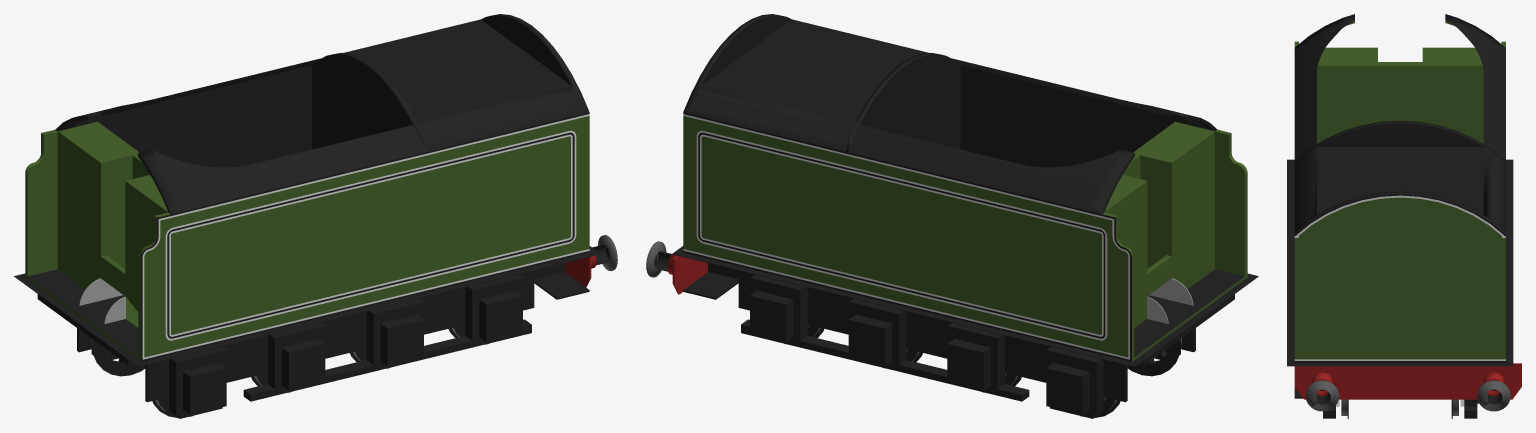
Rendered from a1_peppercorn_tender.obj.
3 renders of one model, left to right at view 1: azimuth 30°, elevation 25°; view 2: azimuth 150°, elevation 25°; view 3: azimuth 270°, elevation 25°, orthographic. The views are drawn at different scales.
Visible parts, largest first — view 1: group_2_ID363.001, group_2.015_ID459.001, group_2.001_ID371.005, group_1.004_ID302.005, group_2.016_ID465.001, group_2.010_ID427.001, group_3.001_ID488.001, group_2.008_ID415.001, group_2.006_ID403.001, group_2.002_ID377.005, group_2.007_ID409.001, group_1.013_ID356.001 (+9 smaller); view 2: group_2_ID363.001, group_2.014_ID453.006, group_2.001_ID371.005, group_1.002_ID290.005, group_2.016_ID465.001, group_2.009_ID421.001, group_3.001_ID488.001, group_2.003_ID385.001, group_2.004_ID391.001, group_2.002_ID377.005, group_2.005_ID397.001, group_1.006_ID314.001 (+9 smaller); view 3: group_2.016_ID465.001, group_2_ID363.001, group_2.001_ID371.005, group_5_ID514.001, group_3.001_ID488.001, group_2.009_ID421.001, group_2.010_ID427.001, group_2.002_ID377.005, group_7.002_ID562.001, group_6.002_ID535.006, group_1.002_ID290.005.
Part boxes in pixels (bbox=[...]): group_2_ID363.001: bbox=[28, 14, 589, 361]; group_2.015_ID459.001: bbox=[171, 136, 570, 334]; group_2.001_ID371.005: bbox=[25, 122, 170, 361]; group_1.004_ID302.005: bbox=[145, 270, 534, 418]; group_2.016_ID465.001: bbox=[144, 116, 589, 357]; group_2.010_ID427.001: bbox=[152, 125, 422, 204]; group_3.001_ID488.001: bbox=[14, 246, 600, 366]; group_2.008_ID415.001: bbox=[165, 130, 576, 340]; group_2.006_ID403.001: bbox=[167, 132, 574, 338]; group_2.002_ID377.005: bbox=[142, 114, 589, 359]; group_2.007_ID409.001: bbox=[169, 134, 572, 336]; group_1.013_ID356.001: bbox=[479, 290, 522, 342]; group_2_ID363.001: bbox=[683, 14, 1244, 361]; group_2.014_ID453.006: bbox=[701, 136, 1101, 334]; group_2.001_ID371.005: bbox=[1102, 121, 1247, 361]; group_1.002_ID290.005: bbox=[738, 270, 1127, 418]; group_2.016_ID465.001: bbox=[683, 116, 1128, 357]; group_2.009_ID421.001: bbox=[850, 125, 1120, 204]; group_3.001_ID488.001: bbox=[672, 246, 1258, 366]; group_2.003_ID385.001: bbox=[696, 130, 1107, 340]; group_2.004_ID391.001: bbox=[698, 132, 1105, 338]; group_2.002_ID377.005: bbox=[683, 114, 1129, 359]; group_2.005_ID397.001: bbox=[700, 134, 1103, 336]; group_1.006_ID314.001: bbox=[848, 314, 892, 366]; group_2.016_ID465.001: bbox=[1294, 197, 1505, 359]; group_2_ID363.001: bbox=[1294, 14, 1505, 362]; group_2.001_ID371.005: bbox=[1294, 20, 1505, 144]; group_5_ID514.001: bbox=[1294, 363, 1521, 399]; group_3.001_ID488.001: bbox=[1287, 159, 1513, 366]; group_2.009_ID421.001: bbox=[1446, 20, 1501, 156]; group_2.010_ID427.001: bbox=[1299, 20, 1353, 157]; group_2.002_ID377.005: bbox=[1294, 195, 1505, 360]; group_7.002_ID562.001: bbox=[1477, 380, 1510, 411]; group_6.002_ID535.006: bbox=[1305, 380, 1339, 411]; group_1.002_ID290.005: bbox=[1464, 399, 1477, 418].
Bounding box in the file's own units: 7.07 × 3.84 × 3.2.
